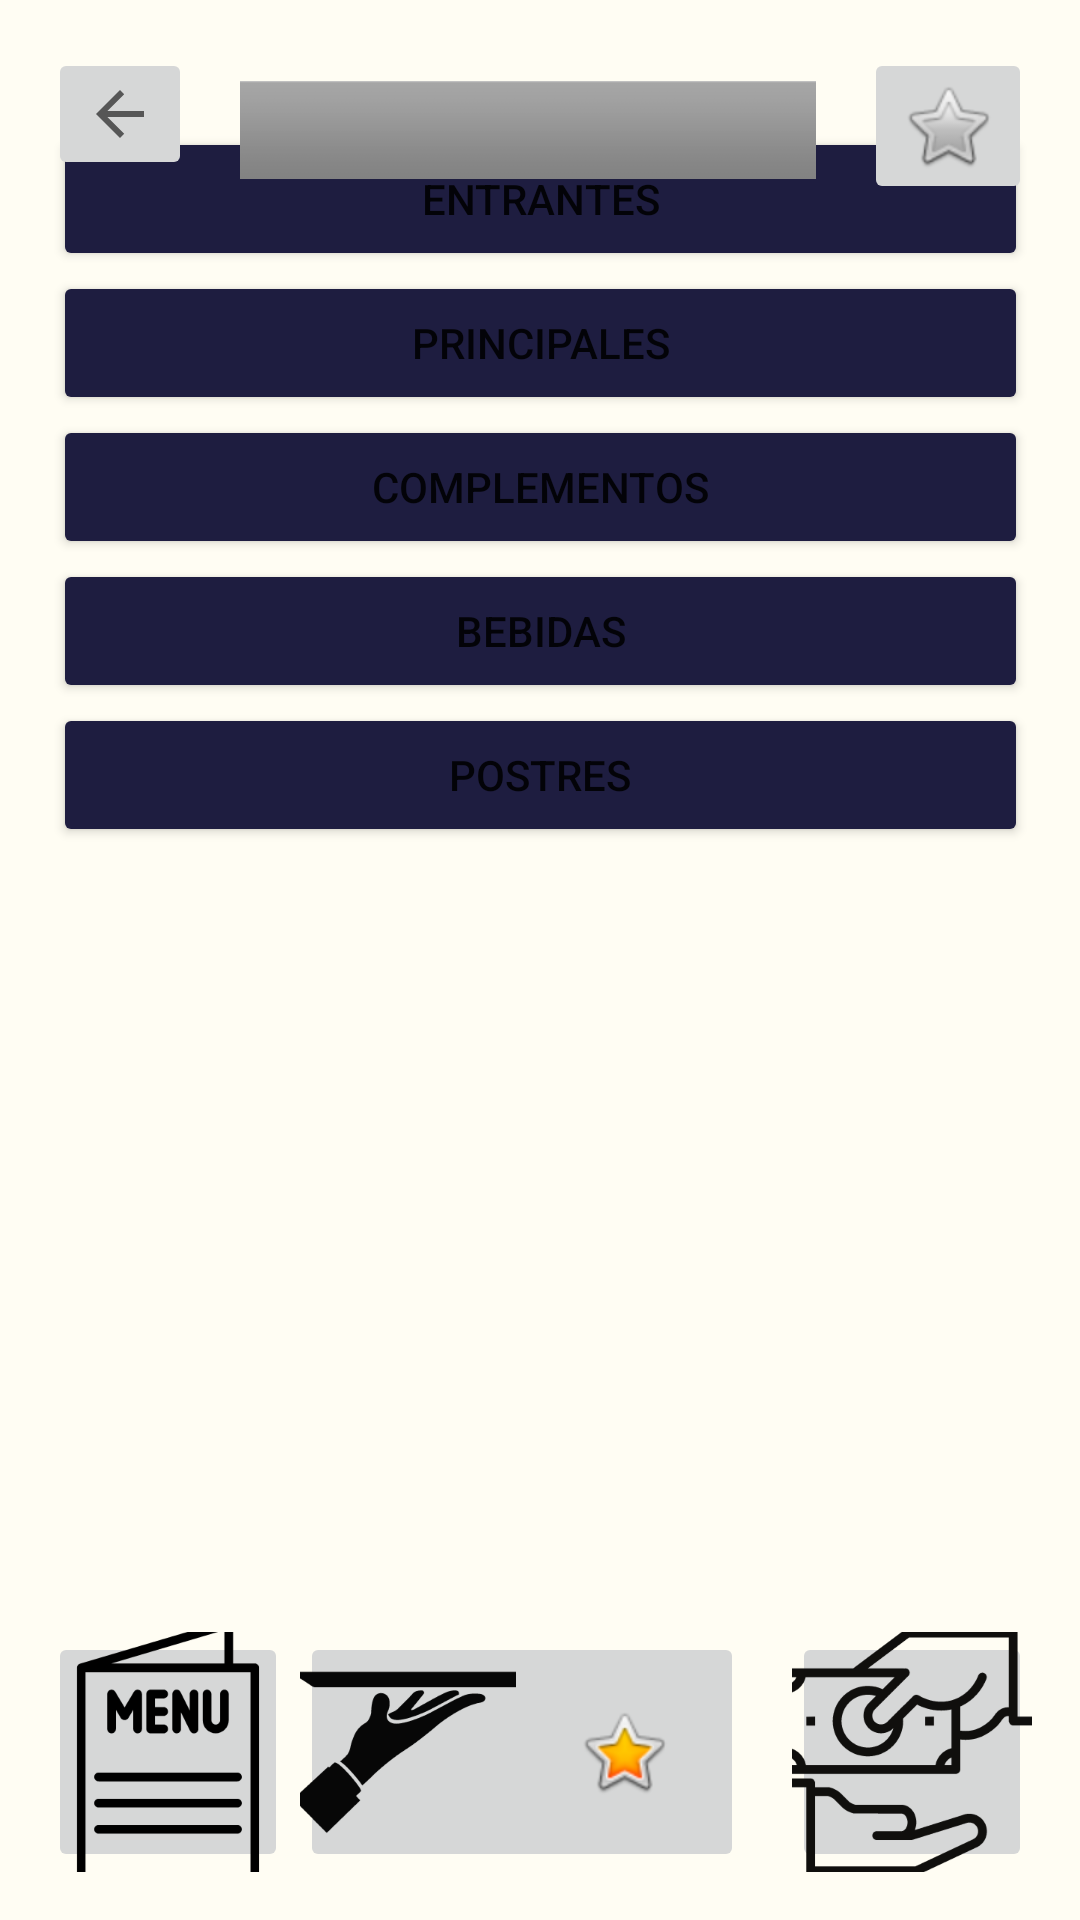

Where to tap for icons on this 1080px×1920px app screen, as [x,y]:
camarero: [420,1752]
pagar: [912,1752]
star off: [942,135]
star on: [618,1752]
